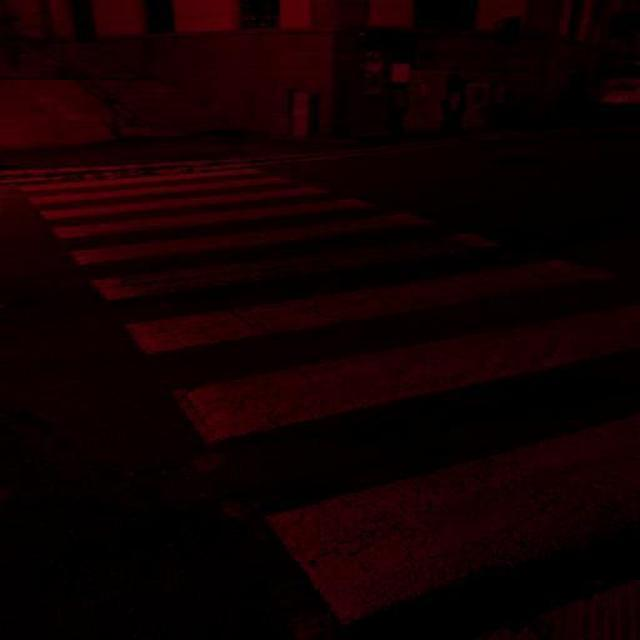crosswalk: (20, 159, 640, 628)
